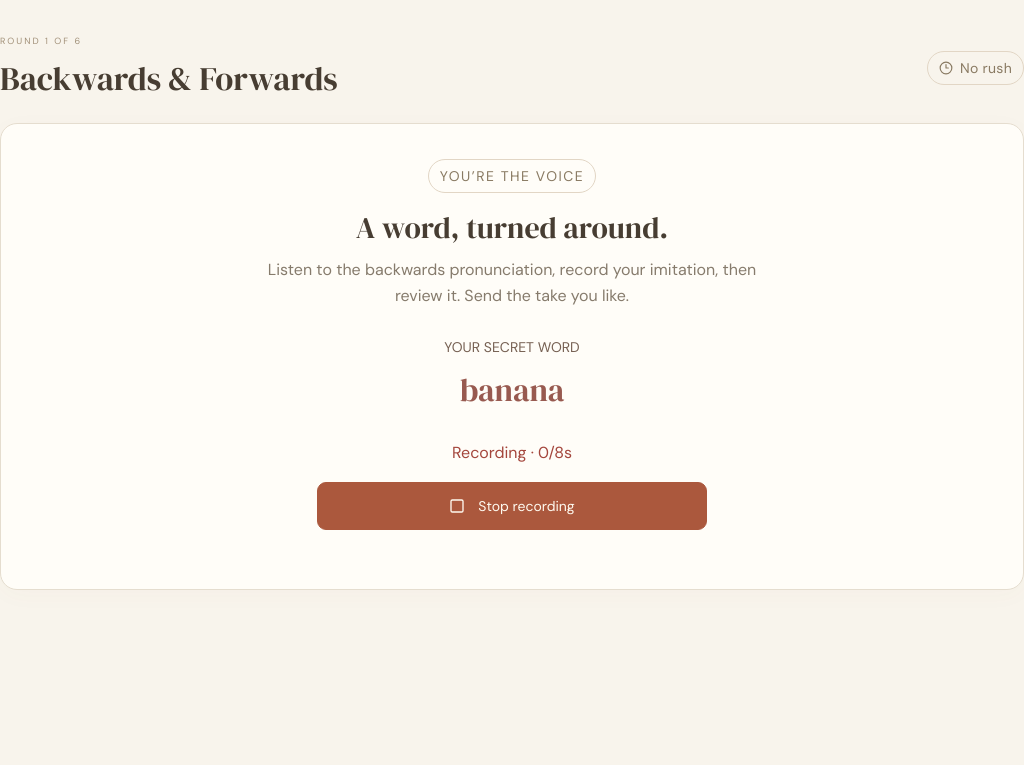
Scenario: Backwards & Forwards › reviews and retakes locally, then uploads only the selected recording on Send
Earlier steps of the test are not shown.
Later steps or results of the test are not shown.
Click the button "Stop recording" at (512, 506), box [317,482,707,530]
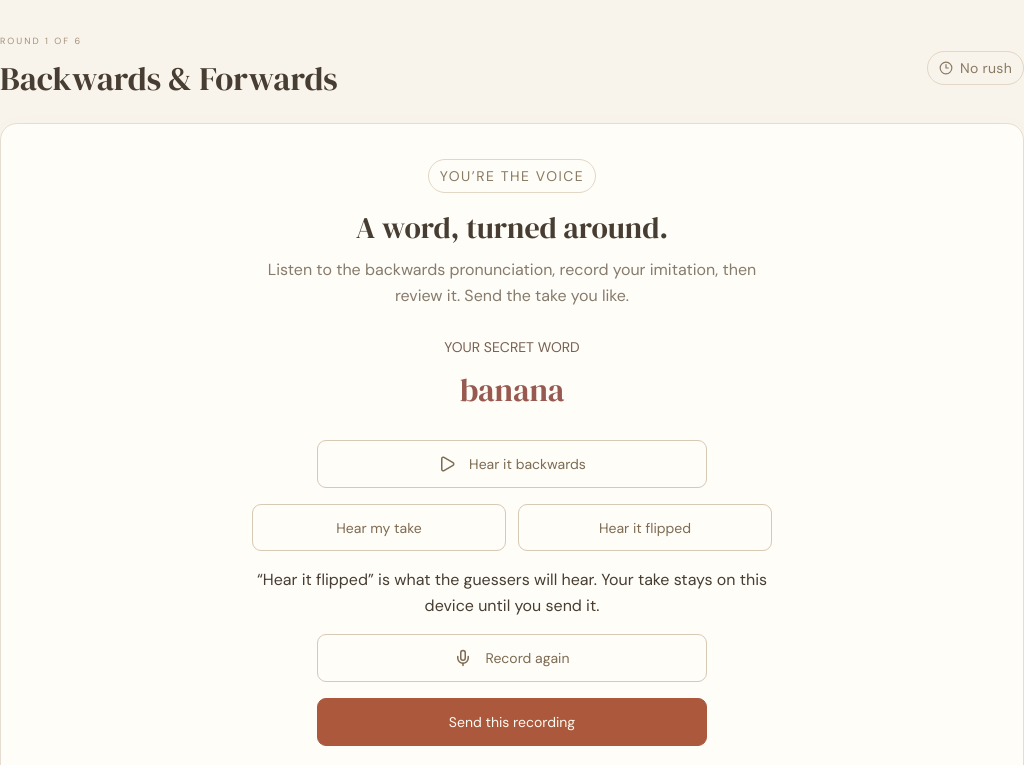
expect the button "Send this recording" is shown: met, box [317,698,707,746]
expect the button "Hear my take" is shown: met, box [252,504,506,551]
expect the button "Hear it flipped" is shown: met, box [518,504,772,551]
Click the button "Record again" at (512, 658), box [317,634,707,682]
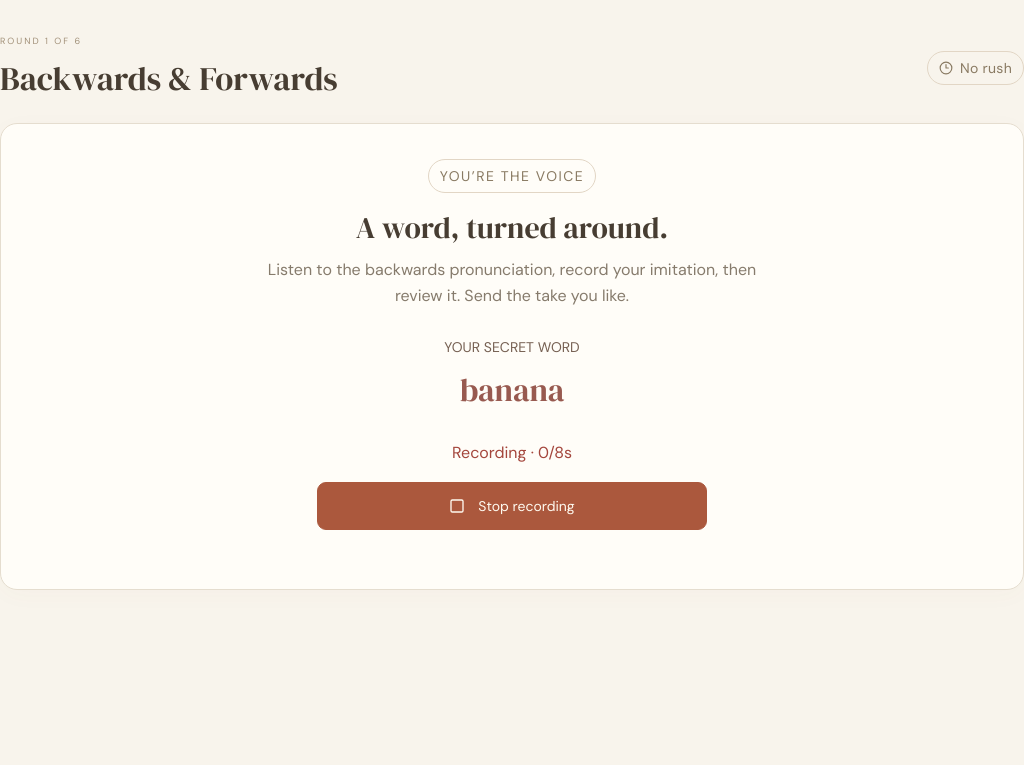
Click the button "Stop recording" at (512, 506), box [317,482,707,530]
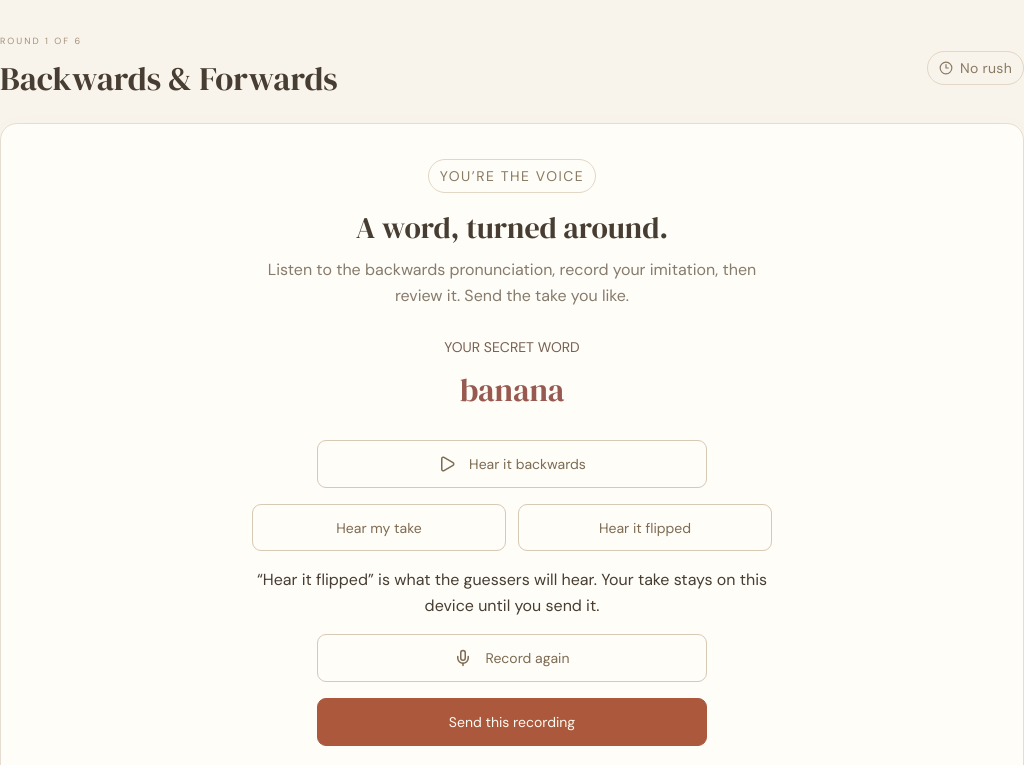
expect the button "Send this recording" is shown: met, box [317,698,707,746]
